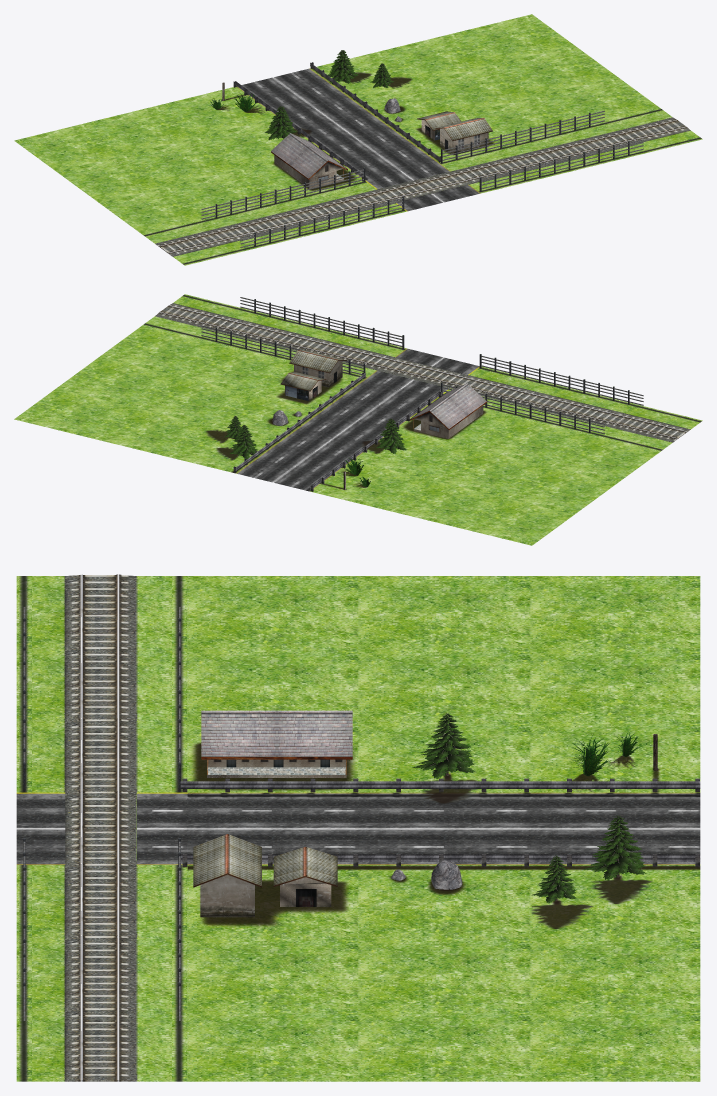
File: end1.FBX
The picture shows the model from 3 angles, top to bottom: view 1: azimuth 30°, elevation 25°; view 2: azimuth 150°, elevation 25°; view 3: azimuth 270°, elevation 25°; orthographic projection. The views are drawn at different scales.
Visible parts, largest first — view 1: end2 (×2), road014, boundry002, boundry003, Box055, b002, tree2, relling006; view 2: end2 (×2), road014, boundry002, Box055, boundry003, b002, relling006, tree2; view 3: end2 (×2), road014, Box055, b002, boundry002, relling006, boundry003, tree2, tree1, rock008.
Part boxes in pixels (left/top/right/bottom): end2 (×2): left=14, top=14, right=698, bottom=263; road014: left=236, top=68, right=480, bottom=211; boundry002: left=181, top=110, right=702, bottom=265; boundry003: left=142, top=108, right=663, bottom=236; Box055: left=271, top=133, right=347, bottom=188; b002: left=417, top=111, right=492, bottom=155; tree2: left=264, top=50, right=393, bottom=140; relling006: left=233, top=62, right=440, bottom=181; end2 (×2): left=14, top=297, right=698, bottom=545; road014: left=236, top=348, right=479, bottom=491; boundry002: left=181, top=294, right=702, bottom=432; Box055: left=409, top=383, right=486, bottom=438; boundry003: left=142, top=322, right=663, bottom=451; b002: left=280, top=350, right=346, bottom=401; relling006: left=233, top=372, right=441, bottom=491; tree2: left=225, top=416, right=407, bottom=459; end2 (×2): left=32, top=574, right=700, bottom=1081; road014: left=16, top=792, right=700, bottom=864; Box055: left=201, top=710, right=352, bottom=777; b002: left=193, top=834, right=337, bottom=917; boundry002: left=16, top=576, right=180, bottom=1081; relling006: left=180, top=778, right=700, bottom=867; boundry003: left=172, top=576, right=187, bottom=1081; tree2: left=412, top=713, right=646, bottom=903; tree1: left=573, top=731, right=638, bottom=775; rock008: left=391, top=860, right=462, bottom=889.
Size of the model in its own units: 140 by 9.22 by 80.
